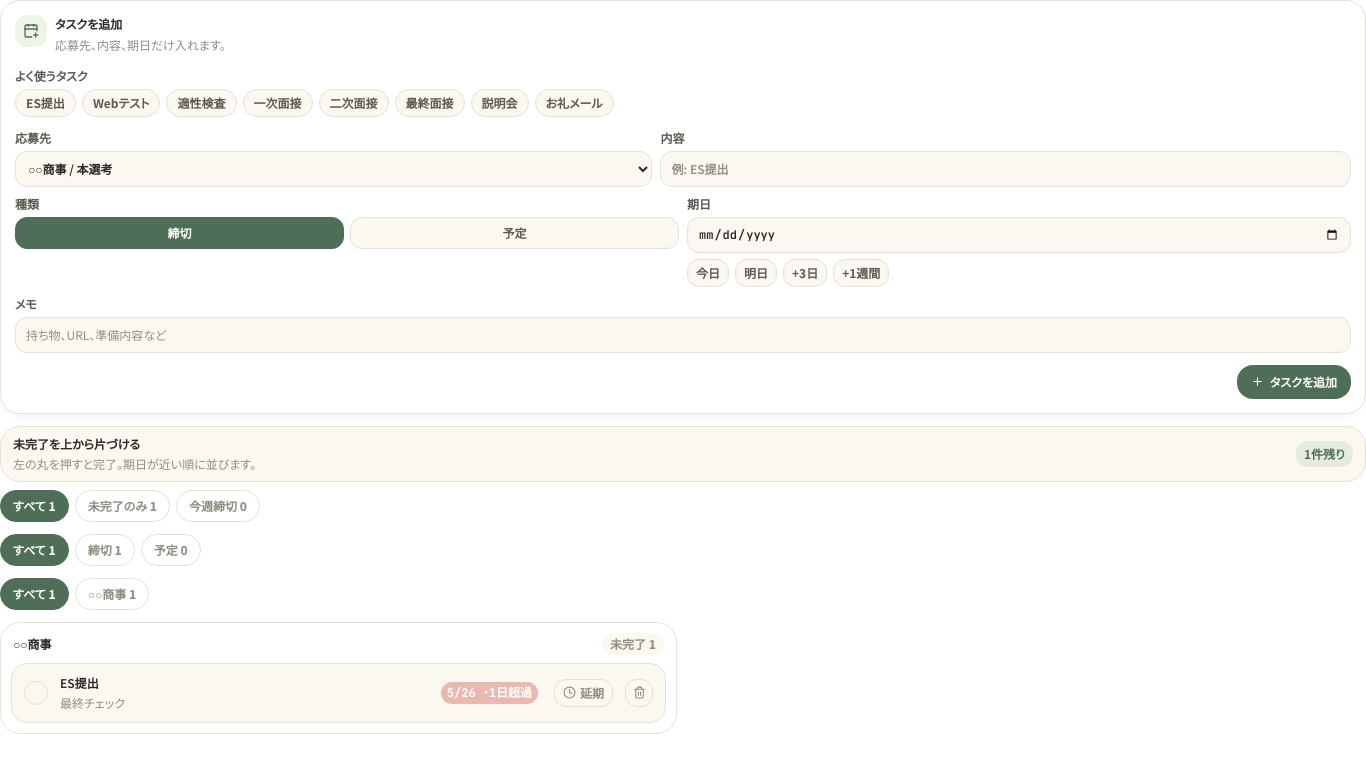
Test: TaskListView › 延期ボタンから+3日を選ぶと基準日+3日で rescheduleTaskAction を呼び、楽観的に期日表示を更新する
The image size is (1366, 768).
Click the button with aria-label "タスク「ES提出」の期日を延期" at (584,692), box [554, 678, 613, 706]
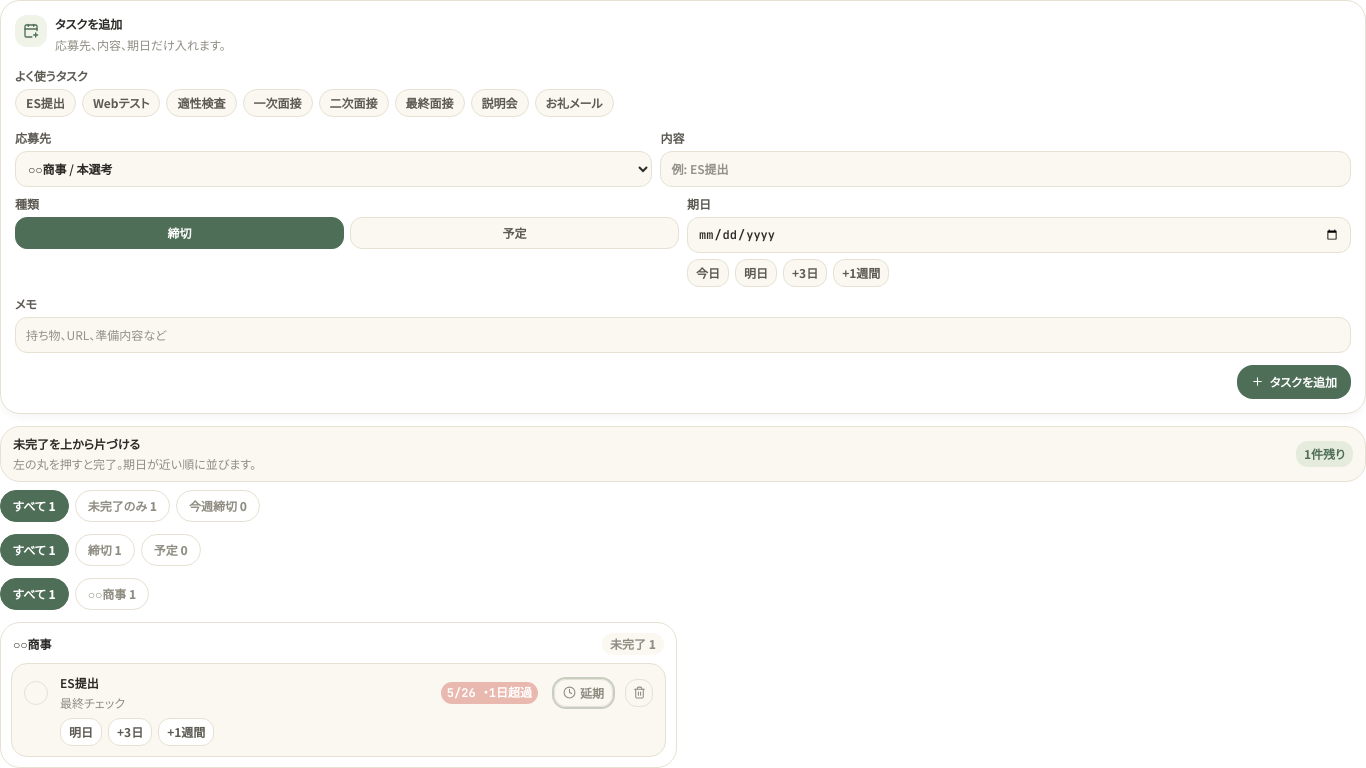
Click the button "+3日" below "最終チェック" at (130,732), box [108, 718, 152, 746]
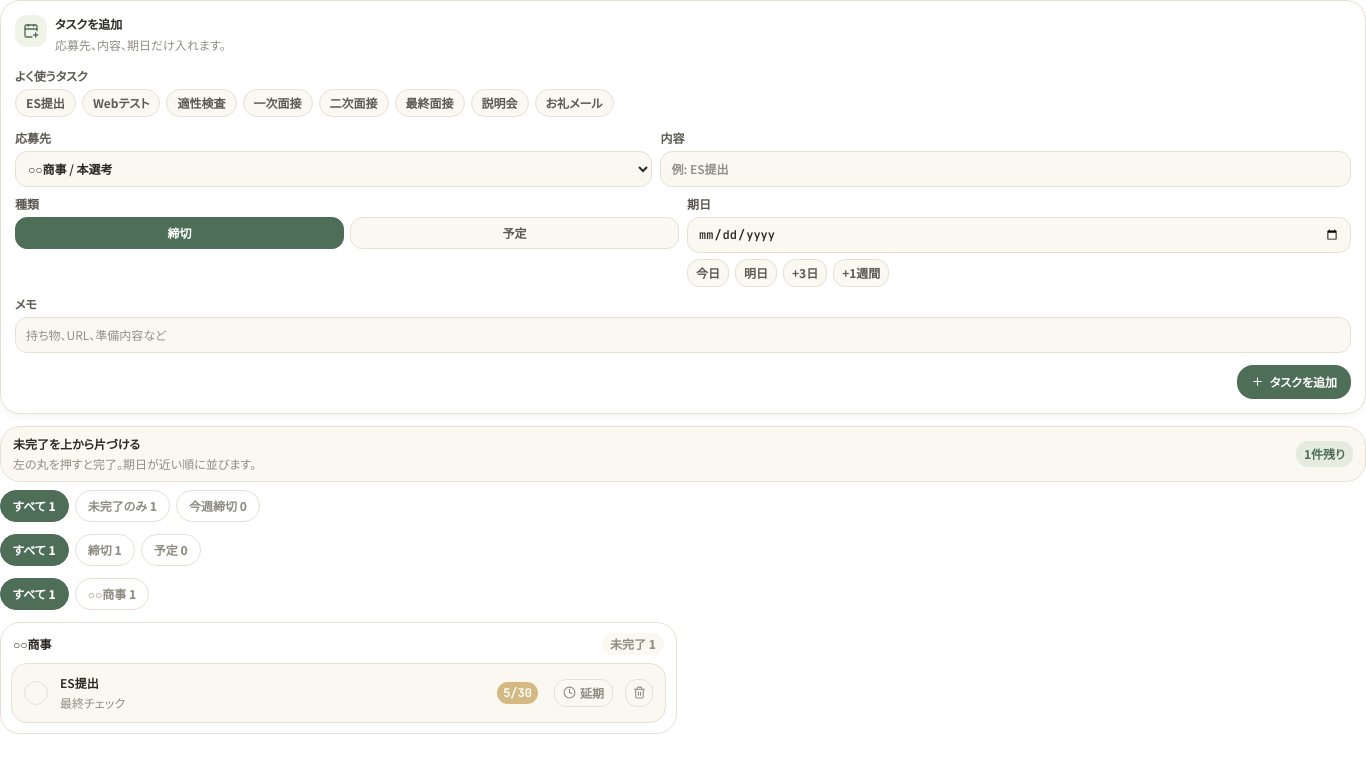
Check: the text "5/30" is shown, box [497, 682, 538, 704]
